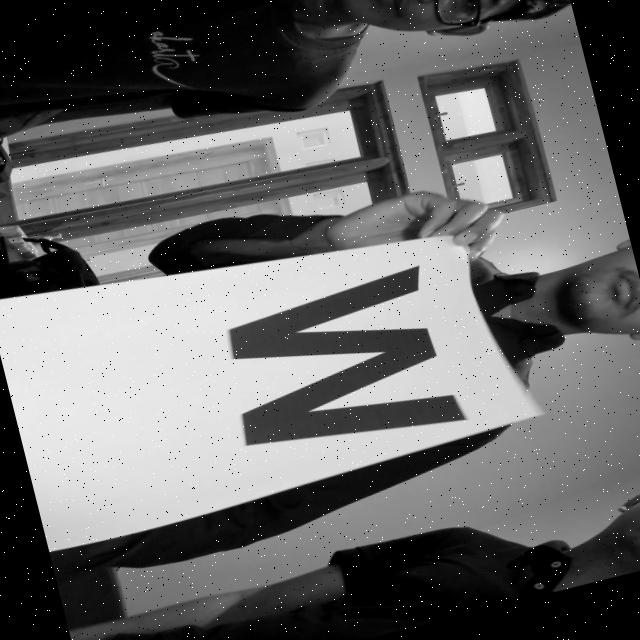w: (197, 238, 488, 494)
